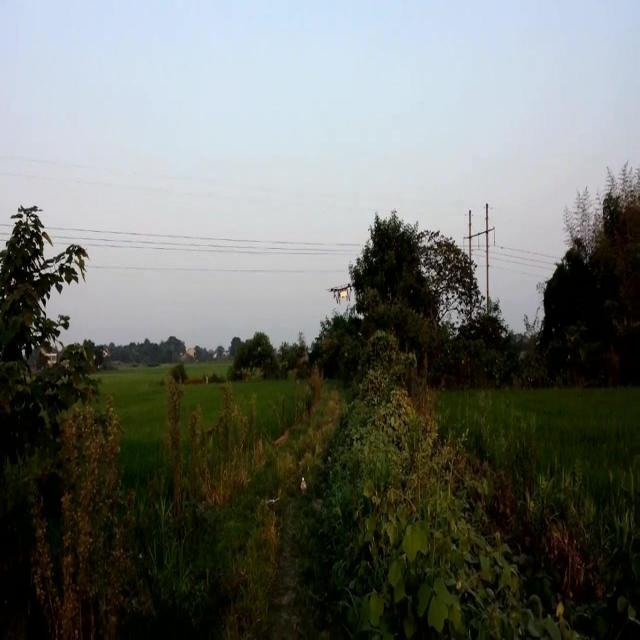UAV: (325, 282, 353, 306)
